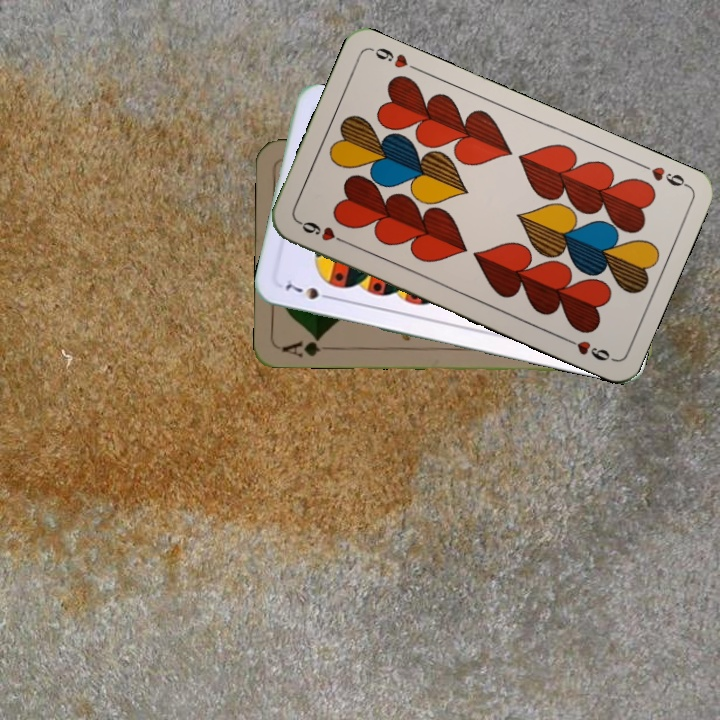GA: (278, 333, 337, 359)
H9: (634, 158, 690, 190), (294, 216, 350, 247)
S7: (281, 279, 336, 303)
